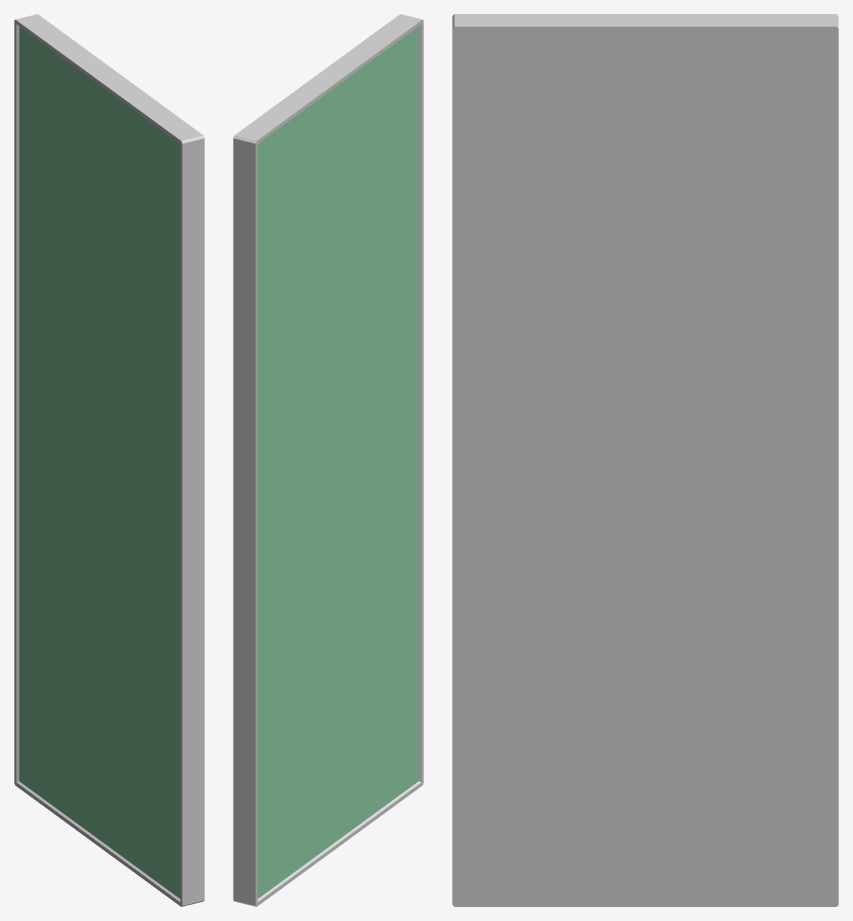
The model's file is HovetMirror.FBX.
3 views of the same model, side by side, from view 1: azimuth 30°, elevation 25°; view 2: azimuth 150°, elevation 25°; view 3: azimuth 270°, elevation 25° (orthographic). The views are drawn at different scales.
Visible parts, largest first — view 1: HovetMirror; view 2: HovetMirror; view 3: HovetMirror.
Part boxes in pixels (bbox=[...]): HovetMirror: bbox=[14, 14, 204, 906]; HovetMirror: bbox=[233, 14, 423, 906]; HovetMirror: bbox=[452, 14, 838, 906].
Bounding box in the file's own units: 6 × 78 × 196.
